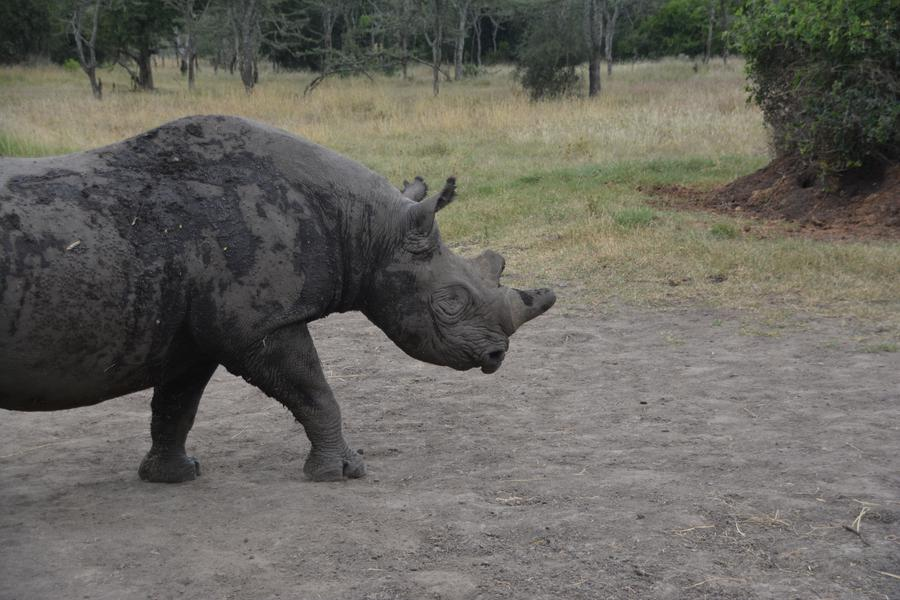rhino: (19, 100, 484, 450)
